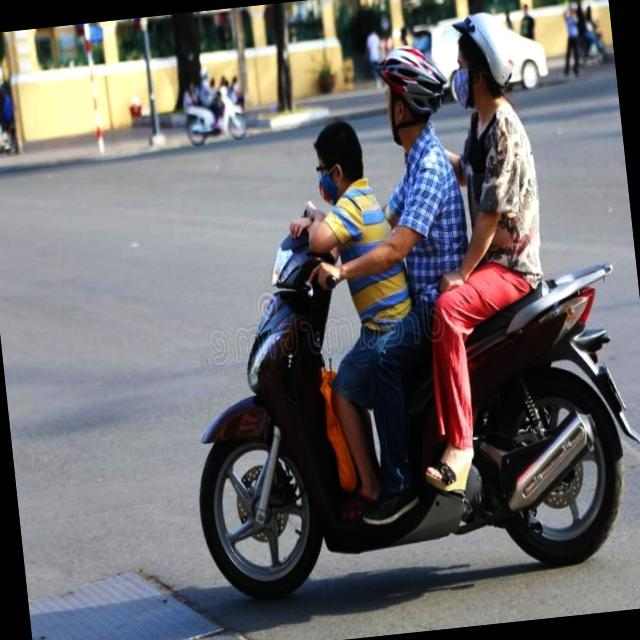motorcycle: (159, 180, 640, 627)
person: (346, 24, 502, 403), (429, 2, 579, 380), (291, 102, 442, 444)
rider_region: (145, 0, 640, 615)
